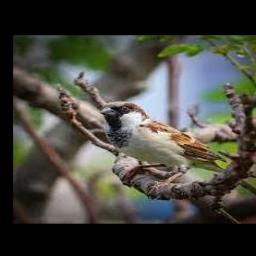Sparrow: (100, 101, 227, 191)
